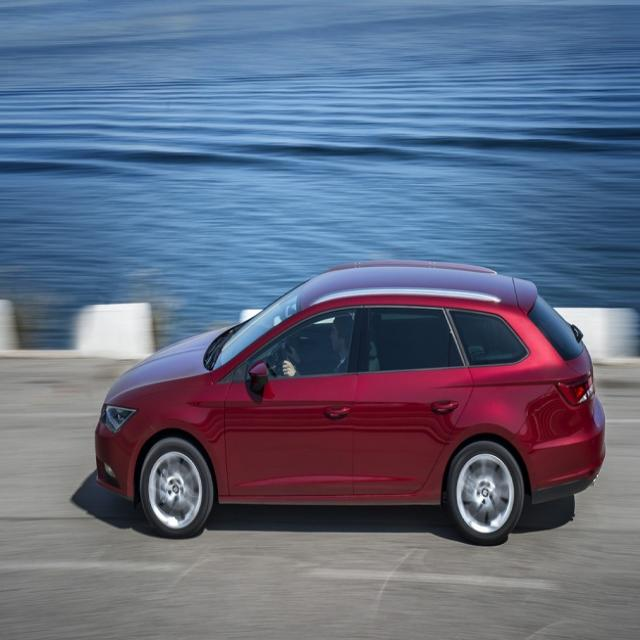back_glass: (526, 285, 586, 361)
back_left_side_light: (554, 370, 596, 410)
door: (359, 304, 474, 498)
front_bumper: (93, 413, 157, 500)
front_glass: (214, 282, 302, 380)
front_left_side_door: (220, 300, 365, 501)
front_left_side_light: (103, 398, 139, 436)
front_left_side_mirror: (247, 359, 269, 388)
rear_bumper: (516, 390, 608, 505)
wheel: (142, 436, 214, 540), (450, 439, 522, 543)
